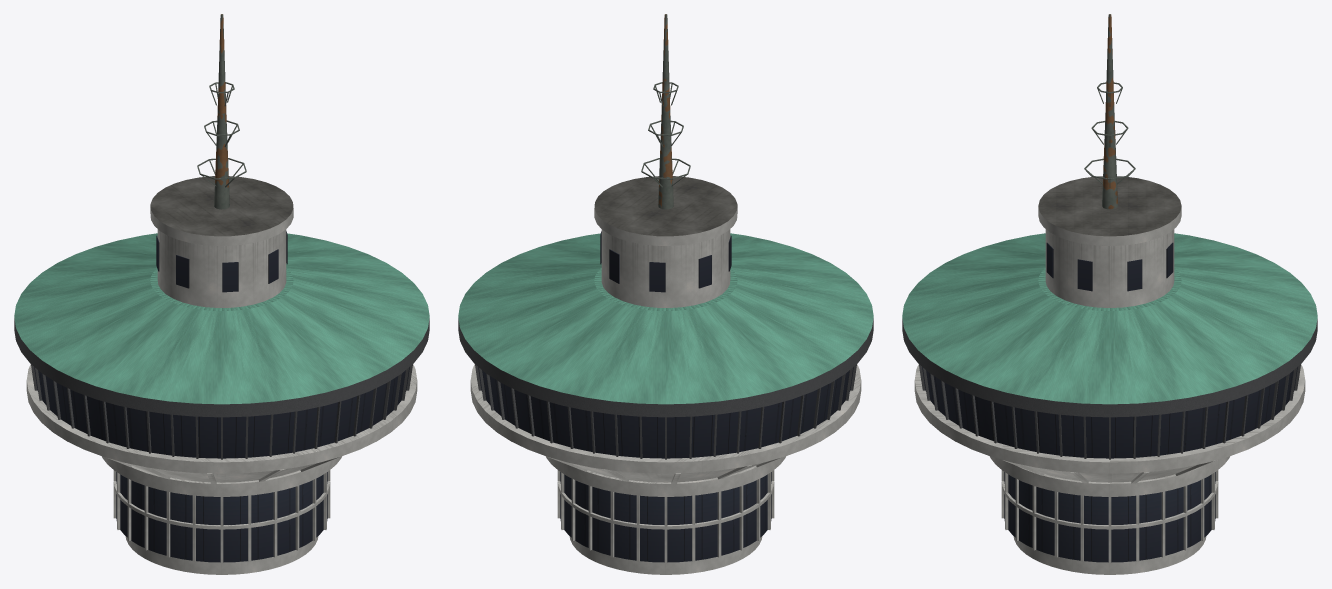
Rendered from genex_restaurant.obj.
The picture shows the model from 3 angles, left to right: view 1: azimuth 30°, elevation 25°; view 2: azimuth 150°, elevation 25°; view 3: azimuth 270°, elevation 25°; orthographic projection.
Parts seen in each view (by area): view 1: Roof_Copper, Glass_Glass, Drum_Glass, Top_ConcreteAged, Drum_ConcreteAged, Floor_ConcreteAged, Top_ConcreteDark, Roof_Aluminium, Mullions_Aluminium, Mast_Steel, Neck_ConcreteAged, Underside_ConcreteAged (+1 smaller); view 2: Roof_Copper, Glass_Glass, Drum_Glass, Top_ConcreteAged, Drum_ConcreteAged, Floor_ConcreteAged, Top_ConcreteDark, Roof_Aluminium, Mullions_Aluminium, Mast_Steel, Neck_ConcreteAged, Underside_ConcreteAged (+1 smaller); view 3: Roof_Copper, Glass_Glass, Drum_Glass, Top_ConcreteAged, Drum_ConcreteAged, Floor_ConcreteAged, Top_ConcreteDark, Roof_Aluminium, Mullions_Aluminium, Mast_Steel, Neck_ConcreteAged, Underside_ConcreteAged (+1 smaller).
Boxes of the visible parts, bbox=[...] form: Roof_Copper: bbox=[14, 233, 429, 404]; Glass_Glass: bbox=[34, 367, 409, 458]; Drum_Glass: bbox=[116, 472, 327, 562]; Top_ConcreteAged: bbox=[150, 204, 293, 307]; Drum_ConcreteAged: bbox=[102, 456, 341, 563]; Floor_ConcreteAged: bbox=[26, 364, 417, 473]; Top_ConcreteDark: bbox=[150, 176, 293, 236]; Roof_Aluminium: bbox=[14, 318, 429, 417]; Mullions_Aluminium: bbox=[31, 364, 412, 459]; Mast_Steel: bbox=[197, 14, 246, 209]; Neck_ConcreteAged: bbox=[125, 536, 318, 574]; Underside_ConcreteAged: bbox=[108, 457, 339, 484]; Roof_Copper: bbox=[458, 233, 873, 404]; Glass_Glass: bbox=[478, 367, 853, 458]; Drum_Glass: bbox=[560, 472, 771, 562]; Top_ConcreteAged: bbox=[594, 204, 737, 307]; Drum_ConcreteAged: bbox=[546, 456, 785, 563]; Floor_ConcreteAged: bbox=[470, 364, 861, 473]; Top_ConcreteDark: bbox=[594, 176, 737, 236]; Roof_Aluminium: bbox=[458, 318, 873, 417]; Mullions_Aluminium: bbox=[475, 364, 856, 459]; Mast_Steel: bbox=[641, 14, 690, 209]; Neck_ConcreteAged: bbox=[569, 536, 762, 574]; Underside_ConcreteAged: bbox=[548, 457, 779, 484]; Roof_Copper: bbox=[902, 233, 1317, 404]; Glass_Glass: bbox=[922, 367, 1297, 458]; Drum_Glass: bbox=[1004, 472, 1215, 562]; Top_ConcreteAged: bbox=[1038, 207, 1181, 307]; Drum_ConcreteAged: bbox=[990, 456, 1229, 563]; Floor_ConcreteAged: bbox=[914, 364, 1305, 473]; Top_ConcreteDark: bbox=[1038, 176, 1181, 236]; Roof_Aluminium: bbox=[902, 319, 1317, 417]; Mullions_Aluminium: bbox=[919, 364, 1300, 459]; Mast_Steel: bbox=[1084, 14, 1135, 209]; Neck_ConcreteAged: bbox=[1013, 536, 1206, 574]; Underside_ConcreteAged: bbox=[1003, 460, 1216, 483].
Size of the model in its own units: 23.2 by 32 by 23.2.
Materials: 6 (6 with a texture image).
